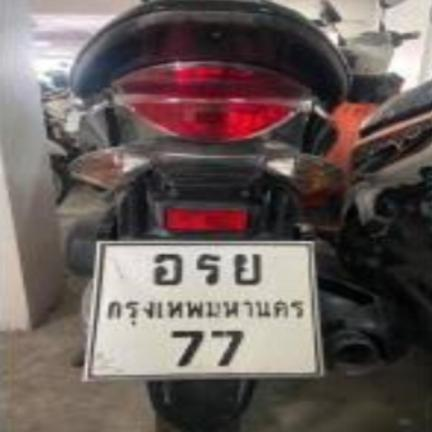7: (209, 328, 247, 367), (171, 328, 207, 369)
A34: (232, 250, 264, 288)
A35: (192, 250, 225, 287)
A43: (151, 251, 183, 286)
BKK: (100, 294, 314, 328)
